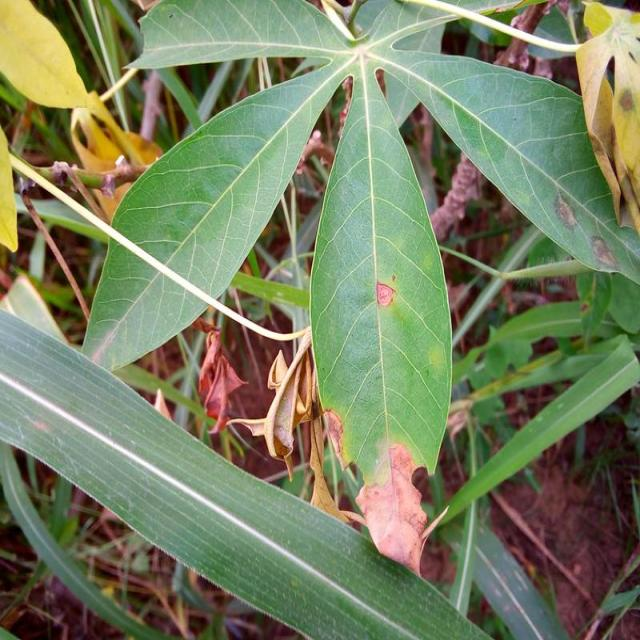cassava leaf: (80, 0, 637, 487), (0, 305, 494, 638), (79, 55, 353, 372), (308, 56, 454, 486)
